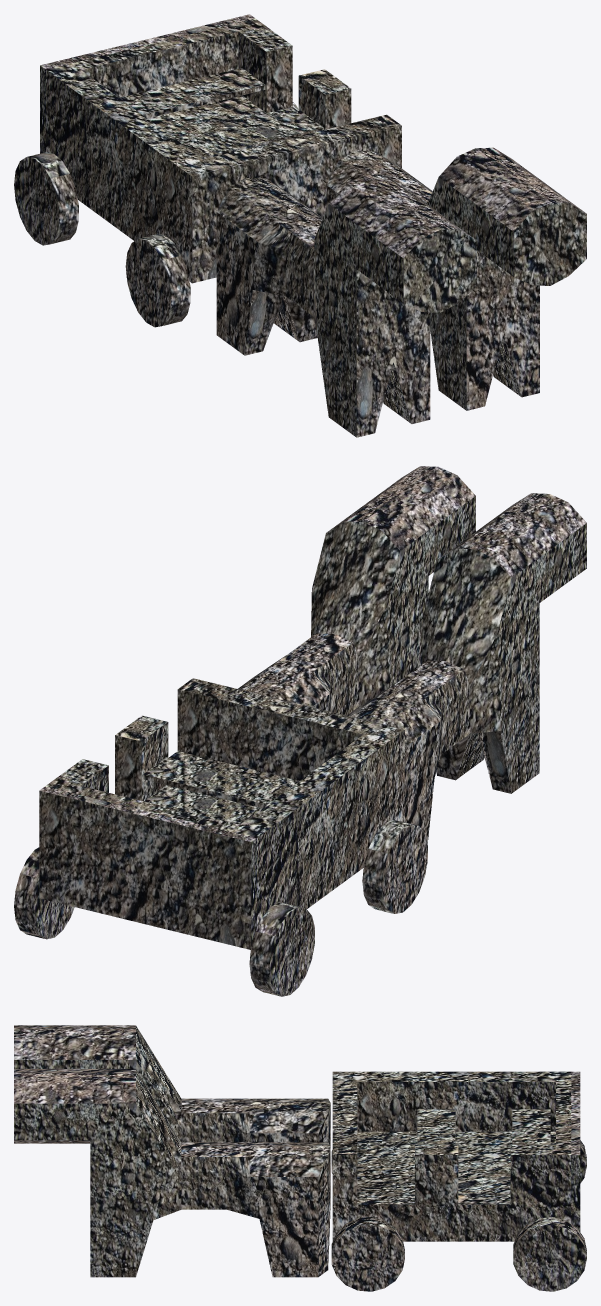
Rendered from Carriage.fbx.
3 views of the same model, one above another, from view 1: azimuth 30°, elevation 25°; view 2: azimuth 150°, elevation 25°; view 3: azimuth 270°, elevation 25° (orthographic). The views are drawn at different scales.
Parts seen in each view (by area): view 1: model; view 2: model; view 3: model.
Boxes of the visible parts, x1,y1,x2,y2 form: model: (14, 14, 586, 437); model: (14, 466, 586, 996); model: (14, 1025, 586, 1291).
Size of the model in its own units: 109 by 97.3 by 264.
Materials: 1 (1 with a texture image).
